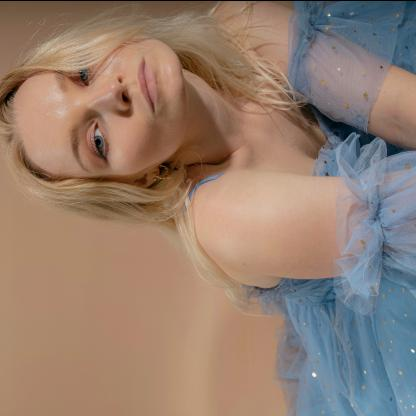Eye: (88, 120, 108, 160), (76, 62, 90, 86)
Mouth: (137, 54, 157, 112)
Nose: (89, 74, 132, 110)
